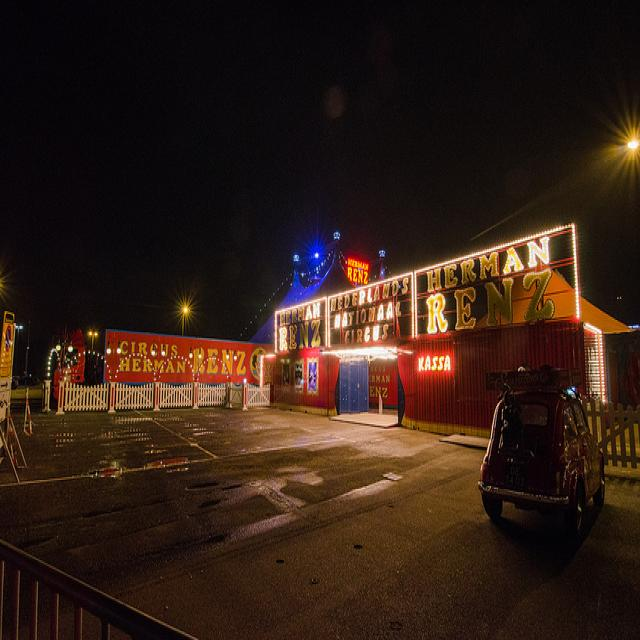Car: (482, 368, 610, 536)
